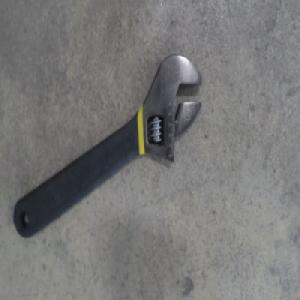AdjustableWrench: (13, 55, 201, 240)
